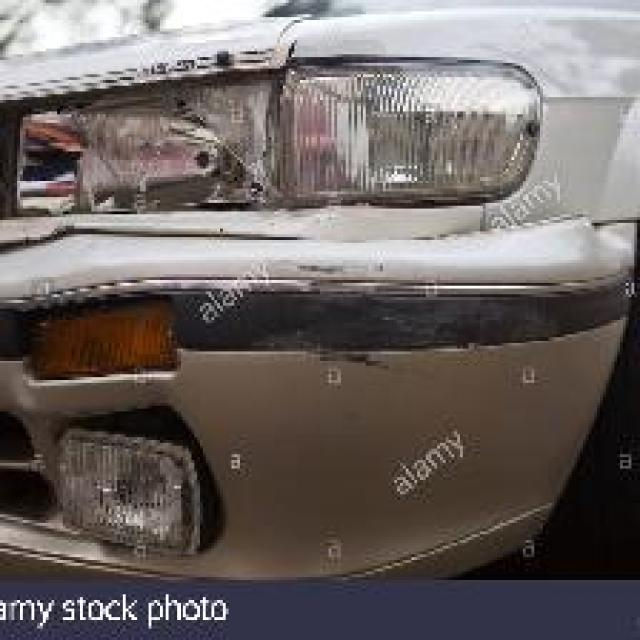head_lamp_minor: (51, 63, 526, 234)
